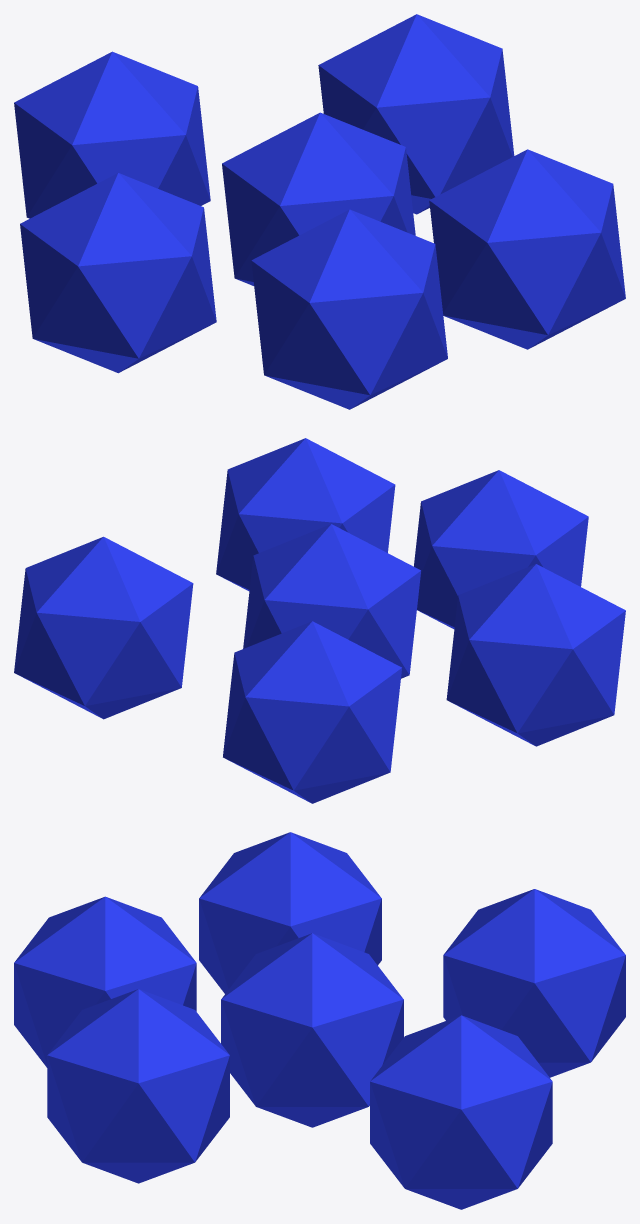
Rendered from Blueberry.fbx.
3 renders of one model, top to bottom at view 1: azimuth 30°, elevation 25°; view 2: azimuth 150°, elevation 25°; view 3: azimuth 270°, elevation 25°, orthographic. The views are drawn at different scales.
Parts seen in each view (by area): view 1: Icosphere.005; view 2: Icosphere.005; view 3: Icosphere.005.
Boxes of the visible parts, box(x1,y1,x2,y2) form: Icosphere.005: box(14, 14, 625, 409); Icosphere.005: box(14, 438, 625, 803); Icosphere.005: box(14, 832, 625, 1209).
Bounding box in the file's own units: 291 × 99.79 × 284.
